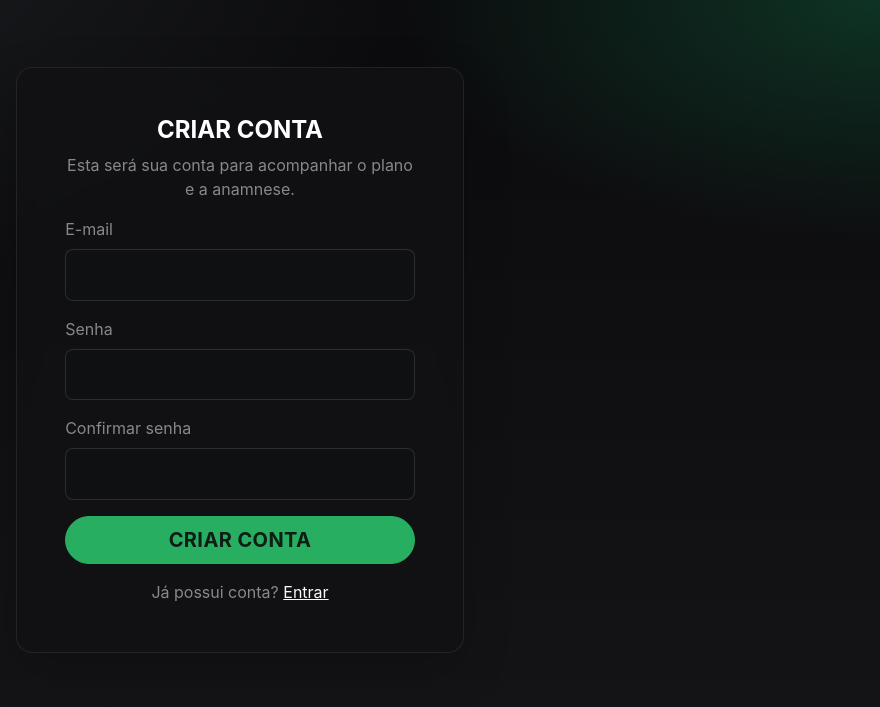
Test: Register › uses the generic registration error
Step 1. Type "user@example.com" into the field labelled "E-mail" → (240, 275), box [65,249,415,301]
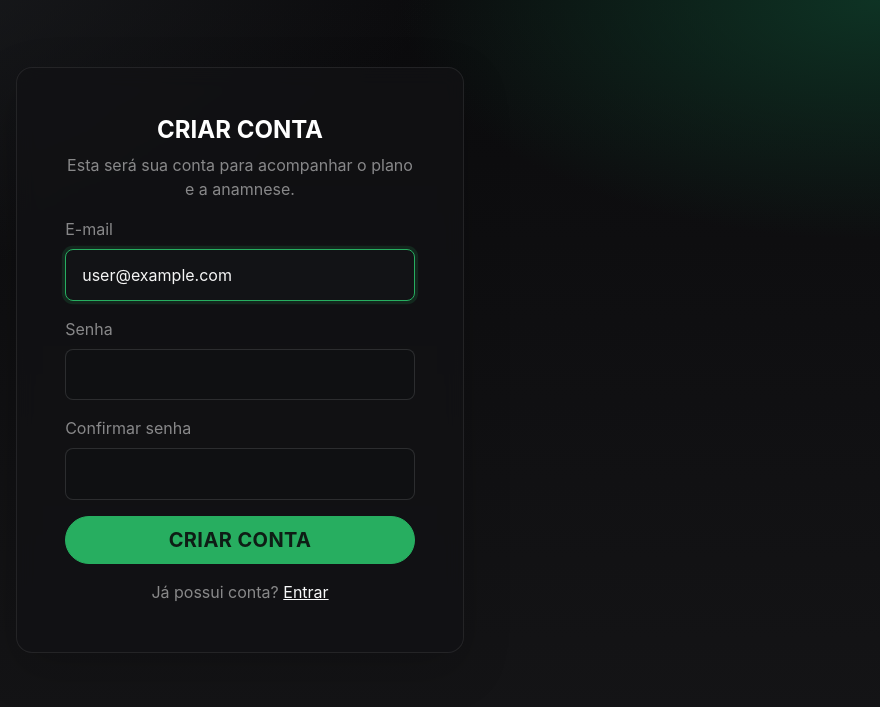
Step 2. Type "secret123" into the password field labelled "Senha" → (240, 374), box [65,349,415,400]
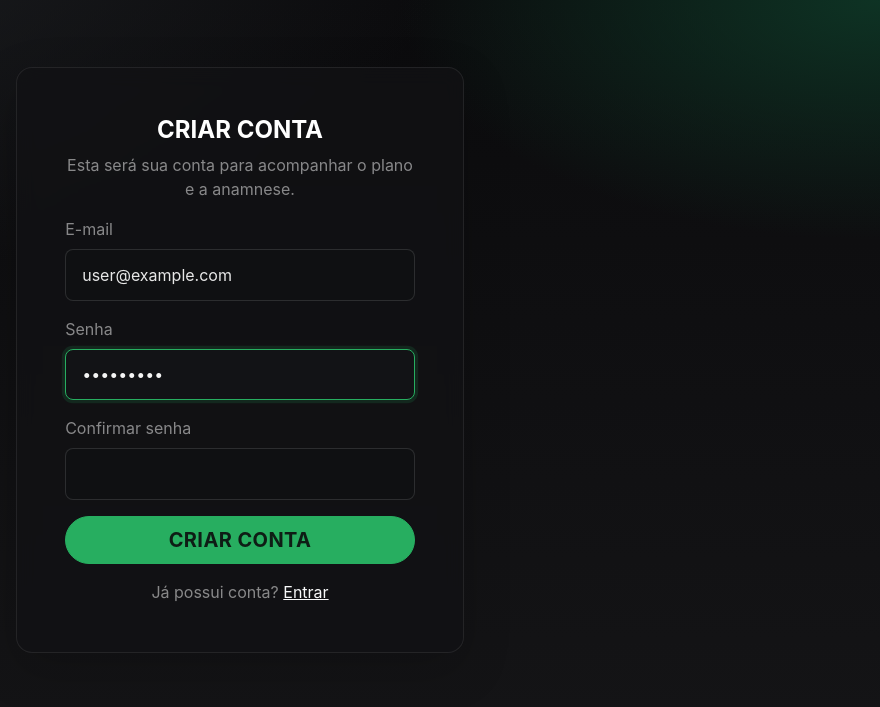
Step 3. Type "secret123" into the password field labelled "Confirmar senha" → (240, 474), box [65,448,415,500]
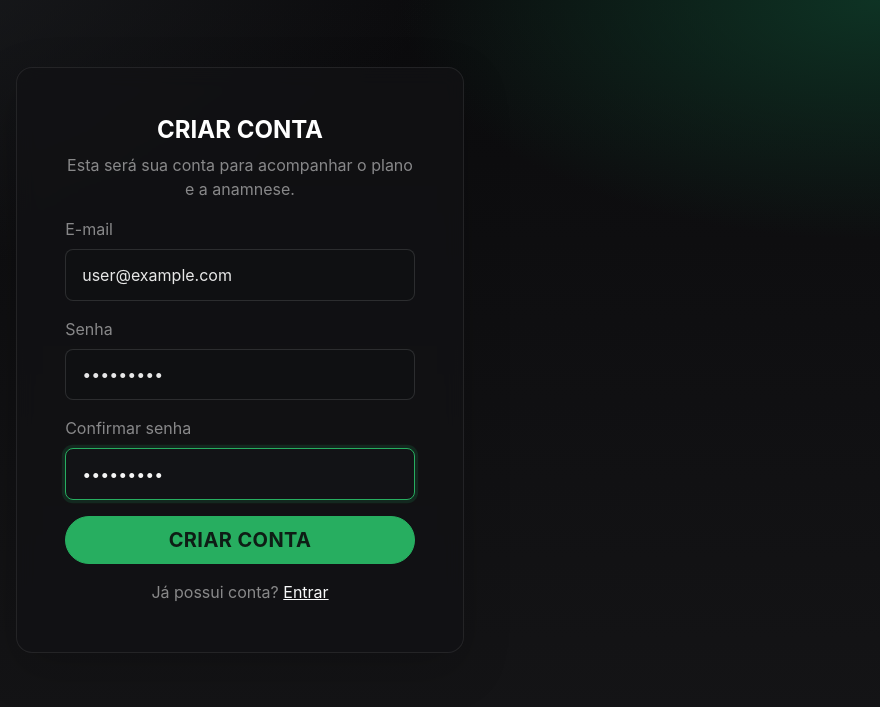
Step 4. Click the button "Criar conta" → (240, 540), box [65,516,415,564]
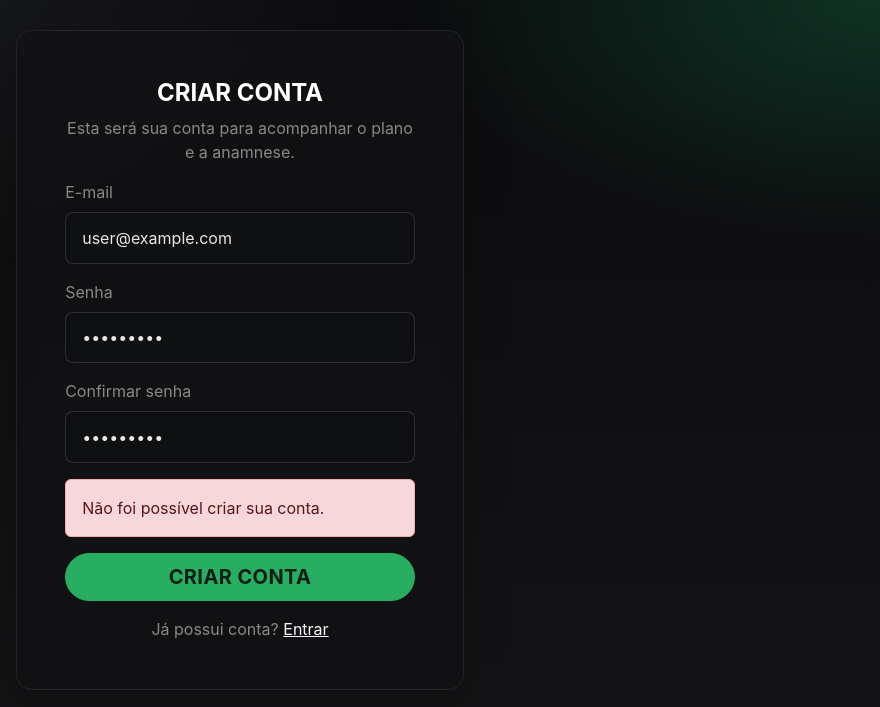
Check: the text "Não foi possível criar sua conta." is shown, box [65,479,415,537]
